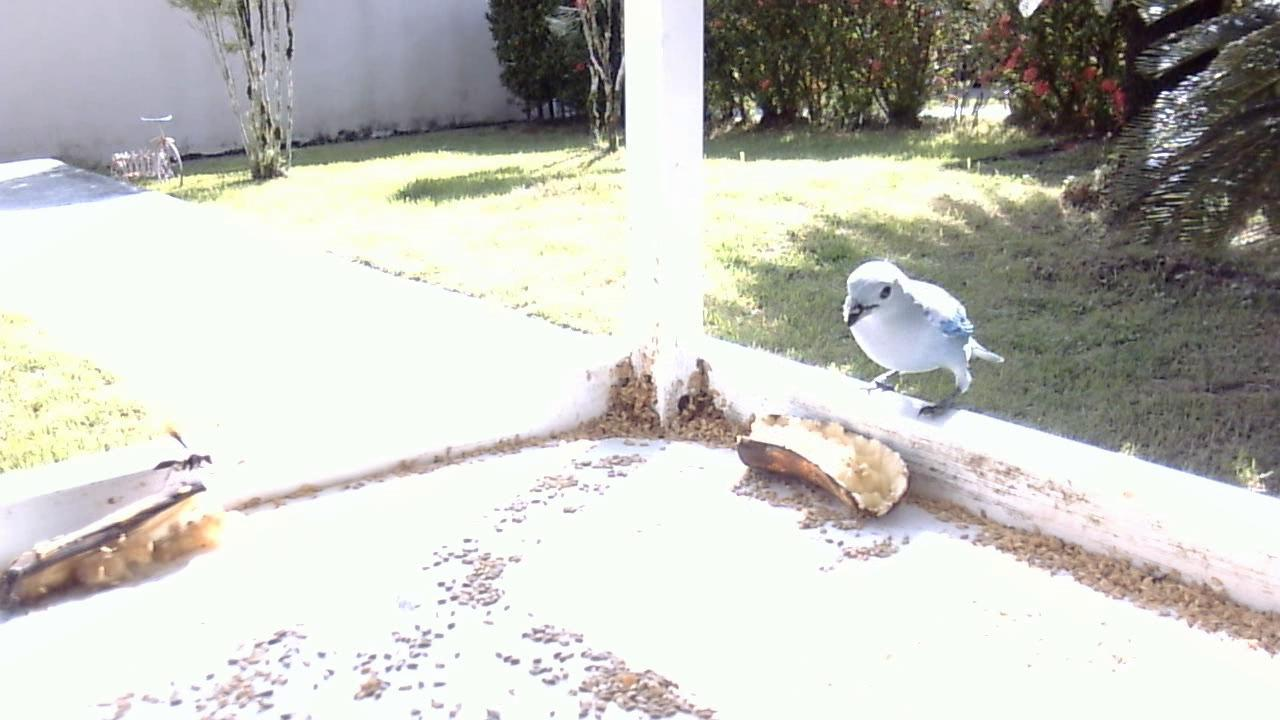sanhaco_da_amazonia: (840, 258, 1005, 423)
